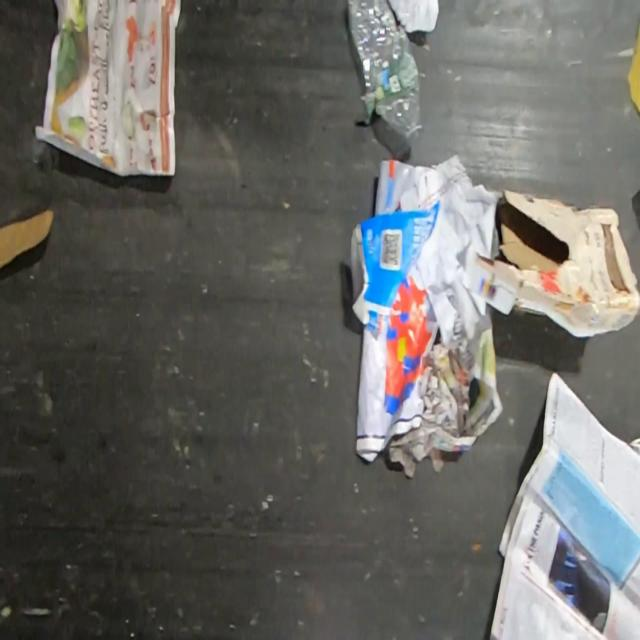cardboard: (474, 188, 640, 339), (0, 208, 56, 272)
rigid_plastic: (345, 0, 422, 147)
